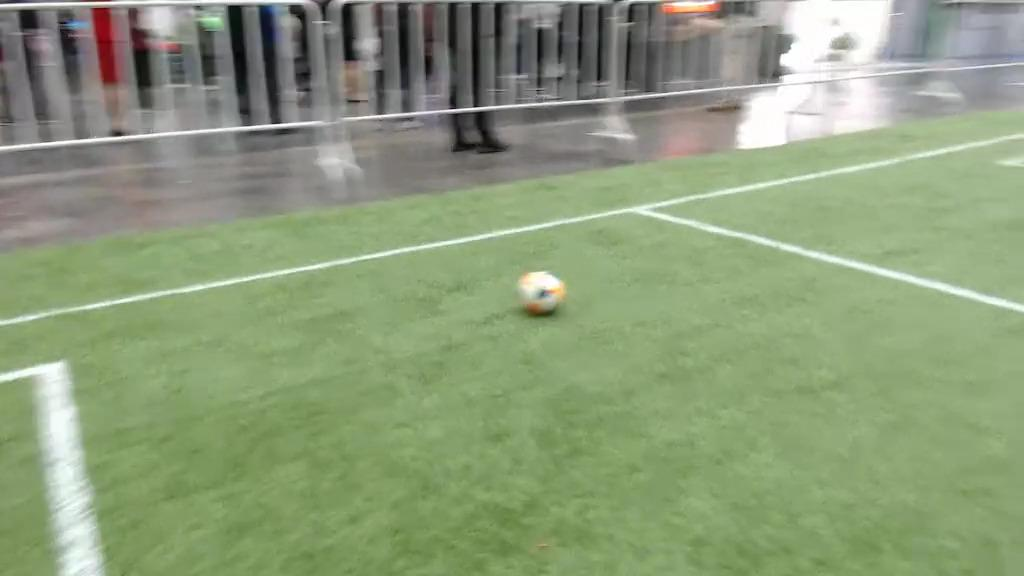ball: (519, 270, 563, 317)
